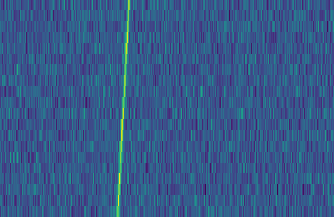signal: (112, 0, 132, 217)
